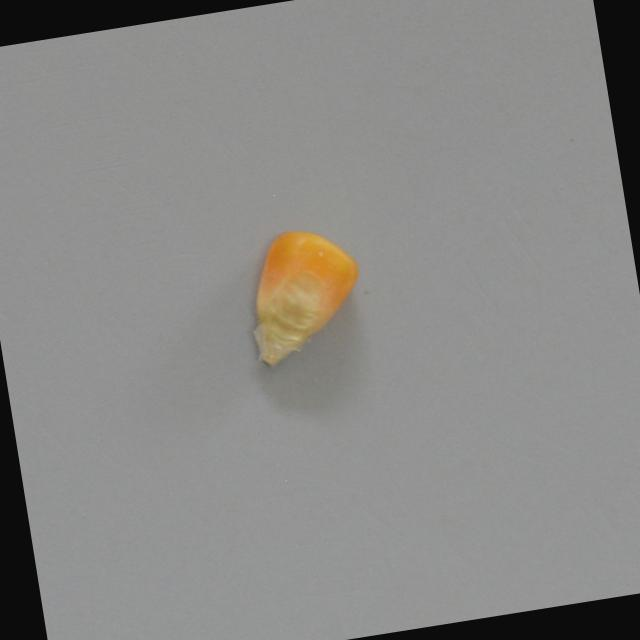entero: (226, 214, 378, 376)
